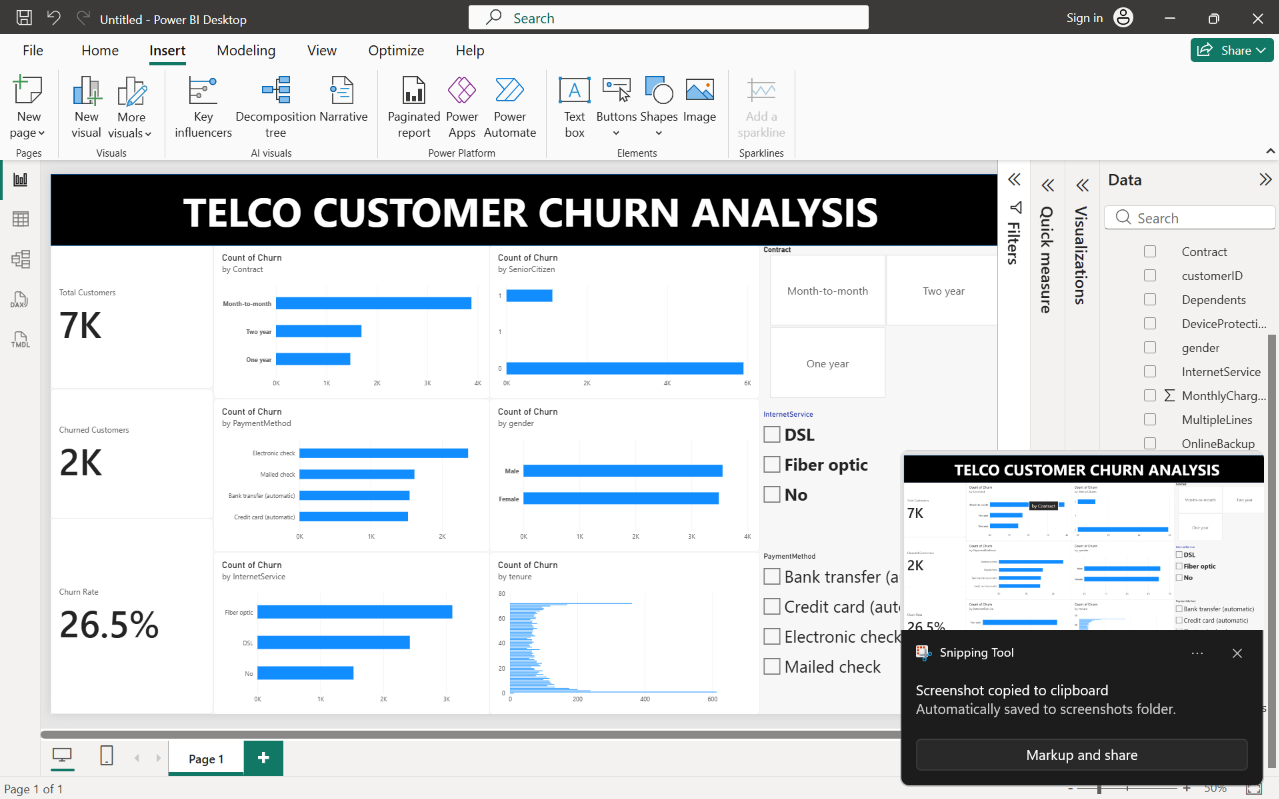

What the dashboard file says about the page in this screenshot:
{"tool":"powerbi","page":{"name":"Page 1","canvas":[1920,1080],"ordinal":0},"visuals":[{"type":"cardVisual","fields":{"Data":["WA_Fn-UseC_-Telco-Customer-Churn.Total Customers"]},"box":[0,142.5,325,287.5],"z":0},{"type":"cardVisual","fields":{"Data":["WA_Fn-UseC_-Telco-Customer-Churn.Churned Customers"]},"box":[0,430,325,260],"z":1},{"type":"cardVisual","fields":{"Data":["WA_Fn-UseC_-Telco-Customer-Churn.Churn Rate"]},"box":[0,688.8,325.5,392.3],"z":2},{"type":"barChart","fields":{"Category":["WA_Fn-UseC_-Telco-Customer-Churn.Contract"],"Y":["CountNonNull(WA_Fn-UseC_-Telco-Customer-Churn.Churn)"]},"box":[325,142.5,552.5,307.5],"z":3},{"type":"barChart","fields":{"Category":["WA_Fn-UseC_-Telco-Customer-Churn.PaymentMethod"],"Y":["CountNonNull(WA_Fn-UseC_-Telco-Customer-Churn.Churn)"]},"box":[325,450,552.5,305],"z":4},{"type":"barChart","fields":{"Category":["WA_Fn-UseC_-Telco-Customer-Churn.InternetService"],"Y":["CountNonNull(WA_Fn-UseC_-Telco-Customer-Churn.Churn)"]},"box":[325,755,552.5,325],"z":5},{"type":"barChart","fields":{"Category":["WA_Fn-UseC_-Telco-Customer-Churn.SeniorCitizen"],"Y":["CountNonNull(WA_Fn-UseC_-Telco-Customer-Churn.Churn)"]},"box":[877.5,142.5,540,307.5],"z":6},{"type":"barChart","fields":{"Category":["WA_Fn-UseC_-Telco-Customer-Churn.gender"],"Y":["CountNonNull(WA_Fn-UseC_-Telco-Customer-Churn.Churn)"]},"box":[877.5,450,540,305],"z":7},{"type":"barChart","fields":{"Category":["WA_Fn-UseC_-Telco-Customer-Churn.tenure"],"Y":["CountNonNull(WA_Fn-UseC_-Telco-Customer-Churn.Churn)"]},"box":[877.5,755,540,325],"z":8},{"type":"slicer","fields":{"Values":["WA_Fn-UseC_-Telco-Customer-Churn.Contract"]},"box":[1417.5,142.5,502.5,307.5],"z":9},{"type":"slicer","fields":{"Values":["WA_Fn-UseC_-Telco-Customer-Churn.InternetService"]},"box":[1417.5,472.5,502.5,282.5],"z":10},{"type":"slicer","fields":{"Values":["WA_Fn-UseC_-Telco-Customer-Churn.PaymentMethod"]},"box":[1417.5,755,502.5,325],"z":11},{"type":"shape","box":[0,0,1920,143.3],"z":13}]}

Visuals, with their boxes on the page's 1920x1080 design canvas (x1, y1, x2, y2). These are canvas units, not pixel positions in the 1279x799 screenshot, which may show the page scaled, cropped or inside an application window:
cardVisual - WA_Fn-UseC_-Telco-Customer-Churn.Total Customers: rect(0, 142, 325, 430)
cardVisual - WA_Fn-UseC_-Telco-Customer-Churn.Churned Customers: rect(0, 430, 325, 690)
cardVisual - WA_Fn-UseC_-Telco-Customer-Churn.Churn Rate: rect(0, 689, 326, 1081)
barChart - WA_Fn-UseC_-Telco-Customer-Churn.Contract x CountNonNull(WA_Fn-UseC_-Telco-Customer-Churn.Churn): rect(325, 142, 878, 450)
barChart - WA_Fn-UseC_-Telco-Customer-Churn.PaymentMethod x CountNonNull(WA_Fn-UseC_-Telco-Customer-Churn.Churn): rect(325, 450, 878, 755)
barChart - WA_Fn-UseC_-Telco-Customer-Churn.InternetService x CountNonNull(WA_Fn-UseC_-Telco-Customer-Churn.Churn): rect(325, 755, 878, 1080)
barChart - WA_Fn-UseC_-Telco-Customer-Churn.SeniorCitizen x CountNonNull(WA_Fn-UseC_-Telco-Customer-Churn.Churn): rect(878, 142, 1418, 450)
barChart - WA_Fn-UseC_-Telco-Customer-Churn.gender x CountNonNull(WA_Fn-UseC_-Telco-Customer-Churn.Churn): rect(878, 450, 1418, 755)
barChart - WA_Fn-UseC_-Telco-Customer-Churn.tenure x CountNonNull(WA_Fn-UseC_-Telco-Customer-Churn.Churn): rect(878, 755, 1418, 1080)
slicer - WA_Fn-UseC_-Telco-Customer-Churn.Contract: rect(1418, 142, 1920, 450)
slicer - WA_Fn-UseC_-Telco-Customer-Churn.InternetService: rect(1418, 472, 1920, 755)
slicer - WA_Fn-UseC_-Telco-Customer-Churn.PaymentMethod: rect(1418, 755, 1920, 1080)
shape: rect(0, 0, 1920, 143)
